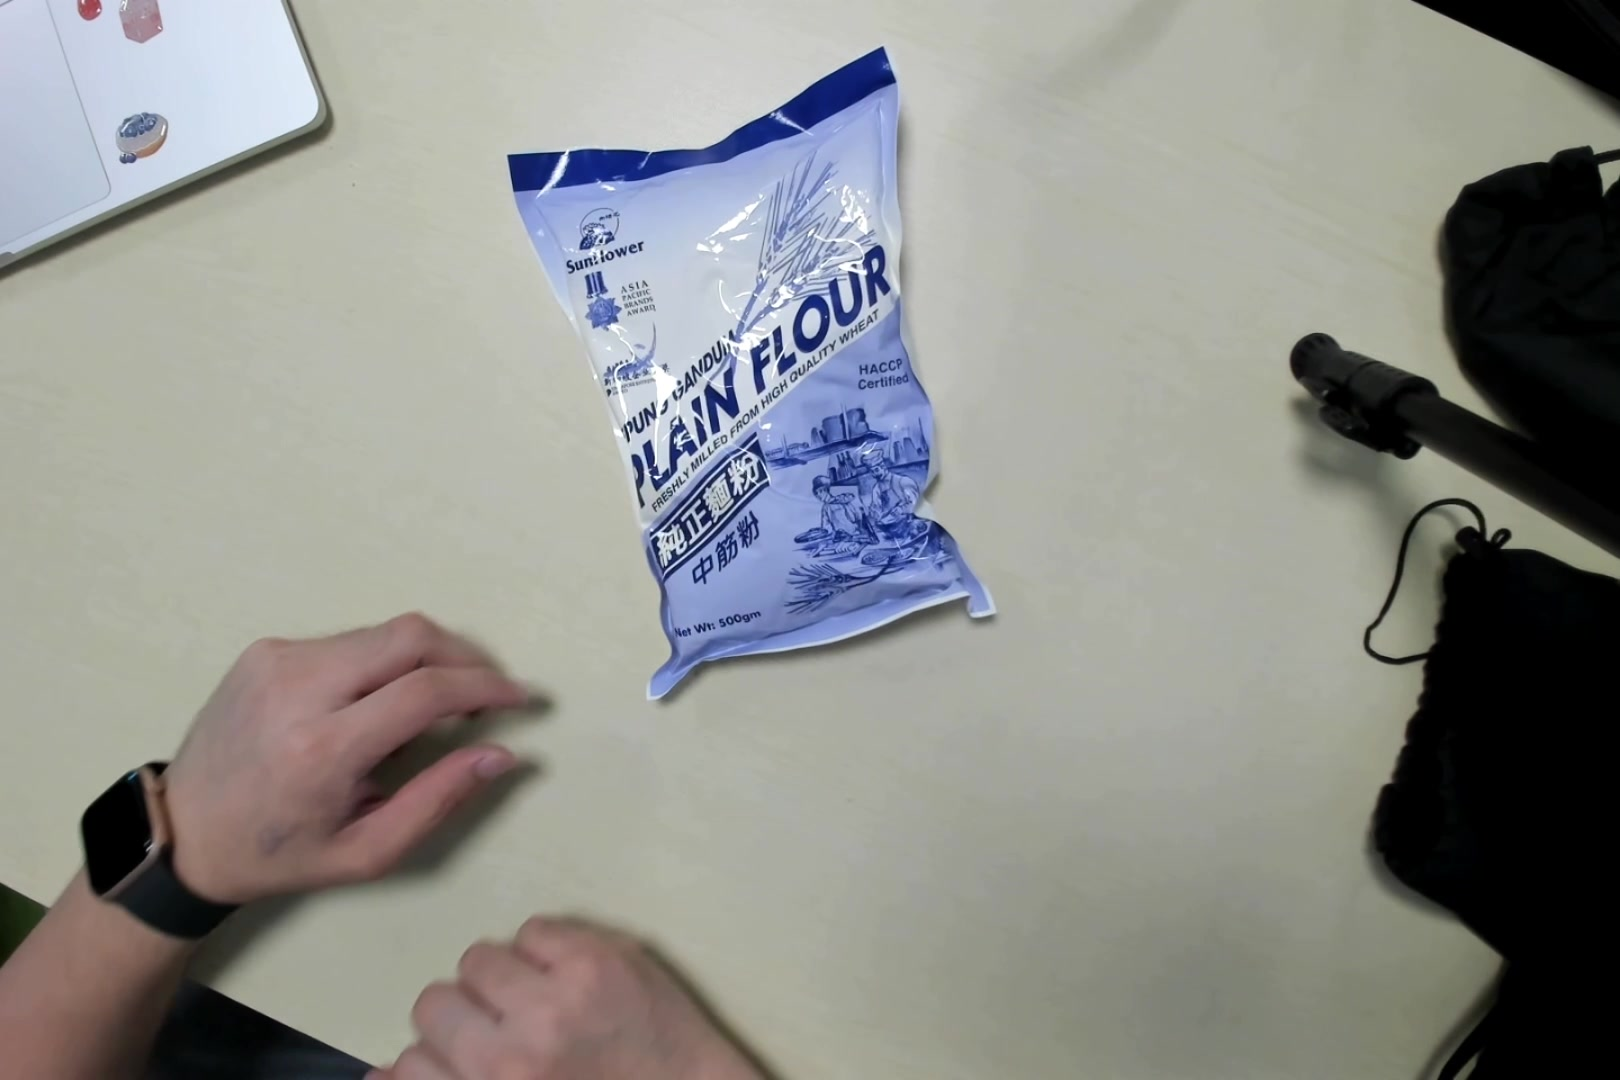Flour_500-599g_NonHalal_NonHealthy: (533, 47, 1002, 698)
